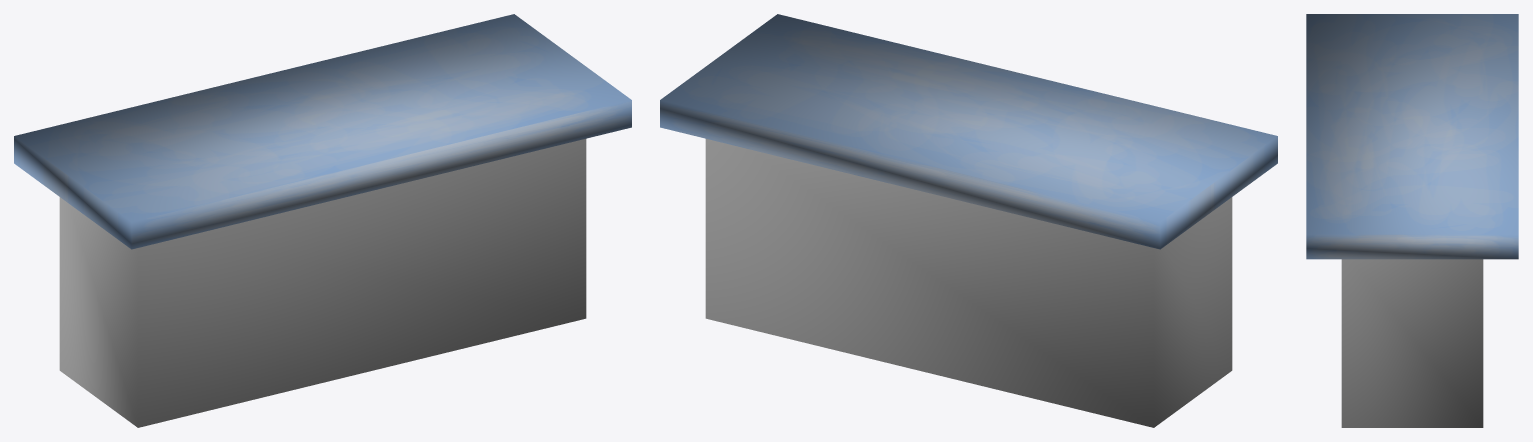
File: table.obj
3 views of the same model, side by side, from view 1: azimuth 30°, elevation 25°; view 2: azimuth 150°, elevation 25°; view 3: azimuth 270°, elevation 25° (orthographic). The views are drawn at different scales.
Visible parts, largest first — view 1: Cube; view 2: Cube; view 3: Cube.
Part boxes in pixels (bbox=[...]): Cube: bbox=[14, 14, 631, 427]; Cube: bbox=[660, 14, 1277, 427]; Cube: bbox=[1306, 14, 1518, 427].
Bounding box in the file's own units: 8.47 × 3.67 × 3.45.
1 material, 1 textured.
